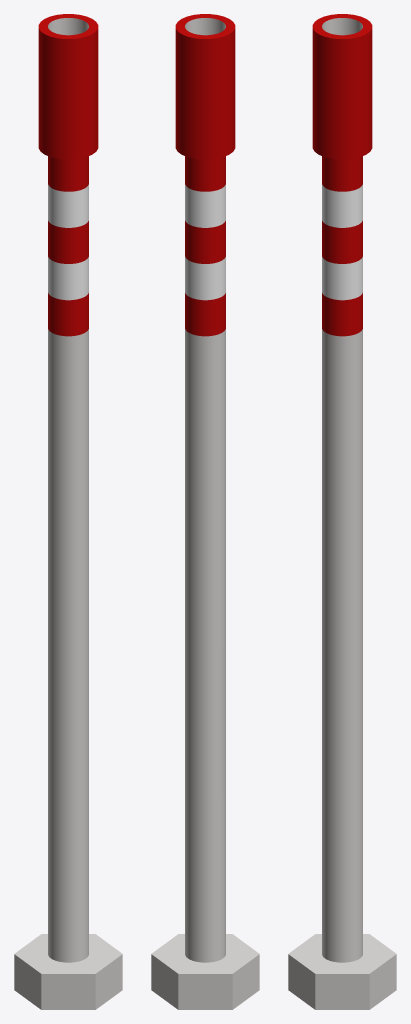
3 renders of one model, left to right at view 1: azimuth 30°, elevation 25°; view 2: azimuth 150°, elevation 25°; view 3: azimuth 330°, elevation 25°, orthographic.
Parts seen in each view (by area): view 1: Layer0_001; view 2: Layer0_001; view 3: Layer0_001.
Boxes of the visible parts, bbox=[...] form: Layer0_001: bbox=[14, 14, 122, 1009]; Layer0_001: bbox=[151, 14, 259, 1009]; Layer0_001: bbox=[288, 14, 396, 1009].
Size of the model in its own units: 7080 by 80000 by 8175.
